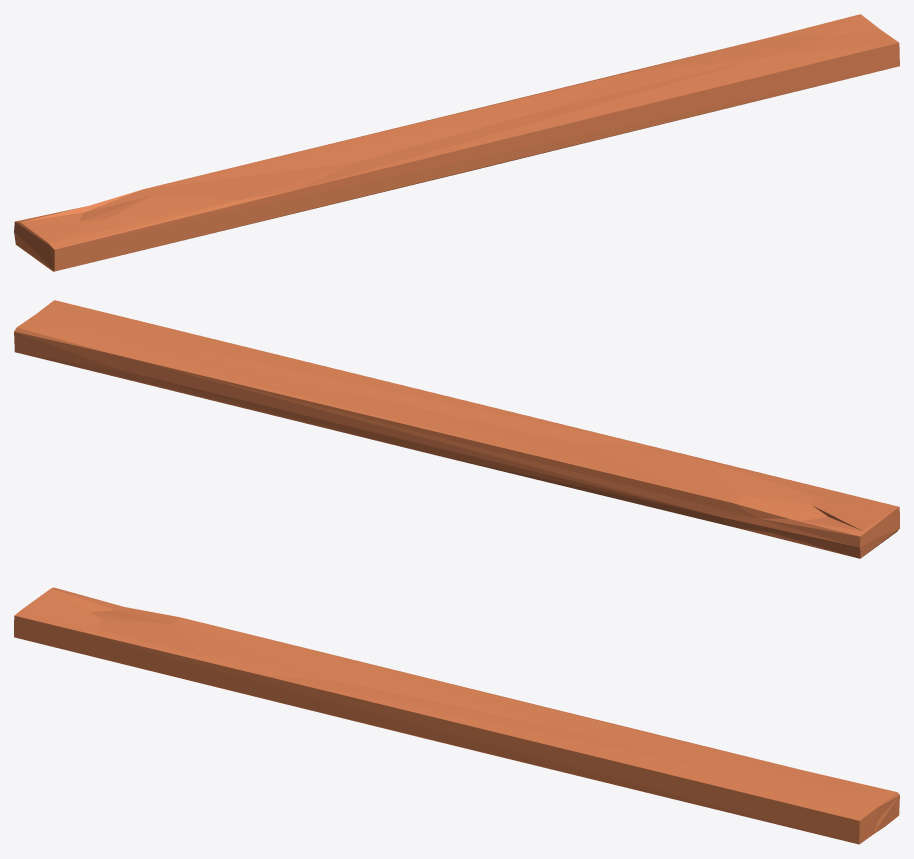
File: copper .glb
The picture shows the model from 3 angles, top to bottom: view 1: azimuth 30°, elevation 25°; view 2: azimuth 150°, elevation 25°; view 3: azimuth 330°, elevation 25°; orthographic projection.
Parts seen in each view (by area): view 1: Cube; view 2: Cube; view 3: Cube.
Boxes of the visible parts, box(x1,y1,x2,y2) form: Cube: box(14, 14, 899, 271); Cube: box(14, 300, 899, 558); Cube: box(14, 587, 899, 844).
Size of the model in its own units: 5.81 by 0.1665 by 0.479.
